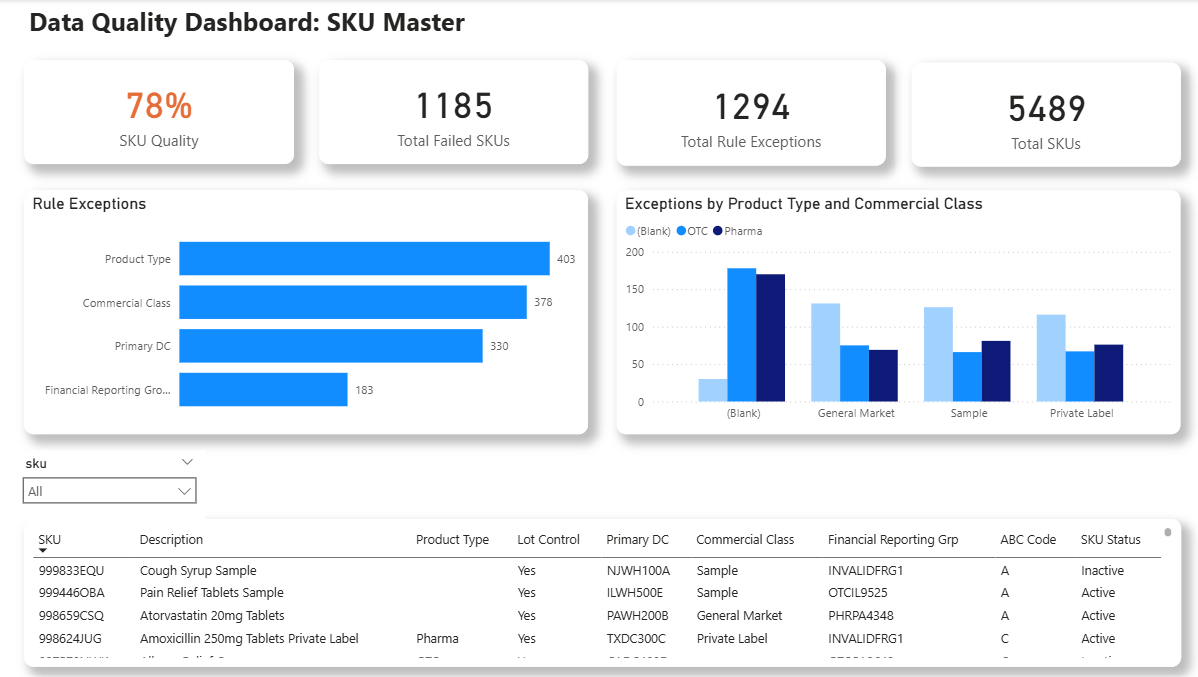

What the dashboard file says about the page in this screenshot:
{"tool":"powerbi","page":{"name":"Data Quality","canvas":[1280,720],"ordinal":0},"visuals":[{"type":"textbox","box":[38.1,0,471.7,52.4],"z":0},{"type":"card","fields":{"Values":["Count(sku_master.sku)"]},"box":[975.1,66.7,284.3,109.6],"z":1000},{"type":"card","fields":{"Values":["CountNonNull(sku_master.sku_quality_fail)"]},"box":[349.4,65.1,284.3,109.6],"z":2000},{"type":"card","fields":{"Values":["sku_master.SKU Quality"]},"box":[38.1,65.1,285,109.6],"z":3000},{"type":"barChart","title":"Rule Exceptions","fields":{"Y":["CountNonNull(Rule Failures.Value)"],"Category":["Rule Failures.Attribute"]},"box":[38.1,201.7,595.5,257.3],"z":4000},{"type":"tableEx","fields":{"Values":["sku_master.sku","sku_master.description","sku_master.prod_type","sku_master.lot_control_flag","sku_master.primary_dc","sku_master.comm_class","sku_master.fin_rprt_grp","sku_master.abc_code","sku_master.sku_status"]},"box":[38.1,549.5,1221.2,155.6],"z":5000},{"type":"card","fields":{"Values":["CountNonNull(Rule Failures.Value)"]},"box":[663.8,65.1,284.3,111.2],"z":6000},{"type":"clusteredColumnChart","title":"Exceptions by Product Type and Commercial Class","fields":{"Category":["sku_master.comm_class"],"Y":["CountNonNull(sku_master.sku)"],"Series":["sku_master.prod_type"]},"box":[663.8,201.7,595.5,257.3],"z":7000},{"type":"slicer","fields":{"Values":["sku_master.sku"]},"box":[27,476.4,203.3,73.1],"z":8000}]}

Visuals, with their boxes in screenshot pixels (x1, y1, x2, y2), scaled from the page's 1280x720 canvas onto the 1198x677 screenshot:
textbox: 36,0,477,49
card - Count(sku_master.sku): 913,63,1179,166
card - CountNonNull(sku_master.sku_quality_fail): 327,61,593,164
card - sku_master.SKU Quality: 36,61,302,164
"Rule Exceptions" barChart: 36,190,593,432
tableEx - sku_master.sku x sku_master.description: 36,517,1179,663
card - CountNonNull(Rule Failures.Value): 621,61,887,166
"Exceptions by Product Type and Commercial Class" clusteredColumnChart: 621,190,1179,432
slicer - sku_master.sku: 25,448,216,517
